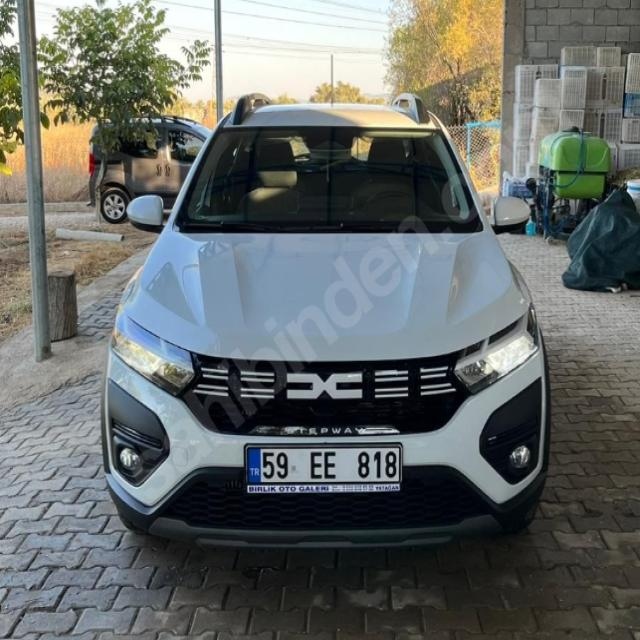dacia: (284, 366, 367, 407)
